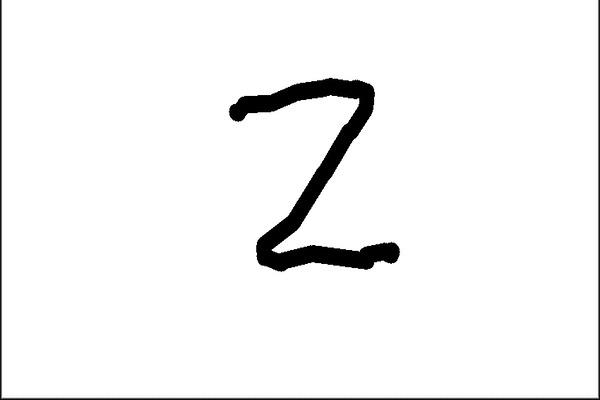Z: (210, 68, 417, 274)
